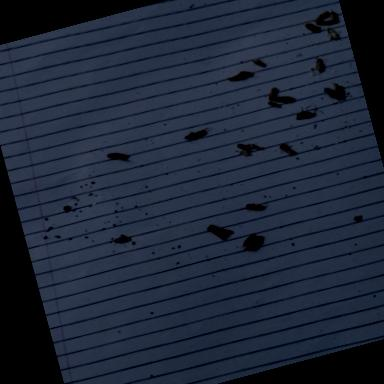pbw: (206, 219, 236, 244), (240, 230, 268, 252), (324, 80, 349, 102), (107, 147, 134, 167), (184, 126, 212, 142), (294, 104, 316, 121), (246, 198, 270, 213), (230, 68, 252, 82), (276, 92, 296, 106), (326, 24, 342, 41), (280, 140, 296, 157), (312, 9, 331, 23), (306, 19, 322, 34), (114, 234, 135, 244), (314, 56, 327, 72), (330, 8, 342, 24), (238, 140, 252, 152), (267, 86, 279, 100)
